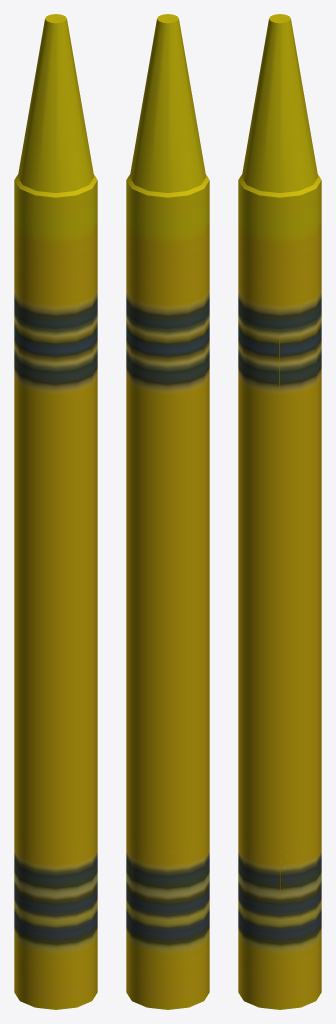
The model's file is toy_crayon_yellow.glb.
The picture shows the model from 3 angles, left to right: view 1: azimuth 90°, elevation 25°; view 2: azimuth 210°, elevation 25°; view 3: azimuth 270°, elevation 25°; orthographic projection.
Parts seen in each view (by area): view 1: toy_crayon_yellow; view 2: toy_crayon_yellow; view 3: toy_crayon_yellow.
Boxes of the visible parts, bbox=[...] form: toy_crayon_yellow: bbox=[14, 14, 97, 1009]; toy_crayon_yellow: bbox=[126, 14, 209, 1009]; toy_crayon_yellow: bbox=[238, 14, 321, 1009].
Bounding box in the file's own units: 1.24 × 16 × 1.24.
Materials: 1 (1 with a texture image).
